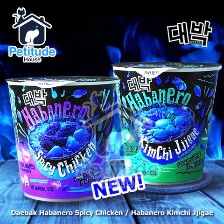paper_cup: (1, 70, 123, 207), (108, 55, 224, 188)
